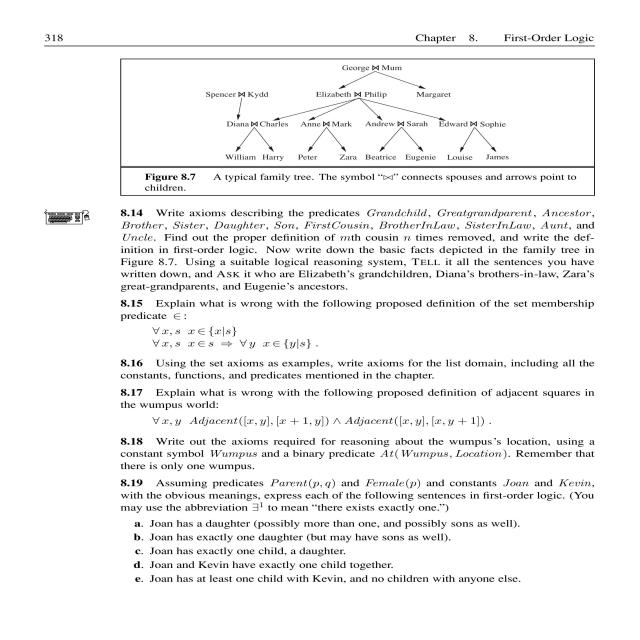diagram: (104, 49, 614, 194)
